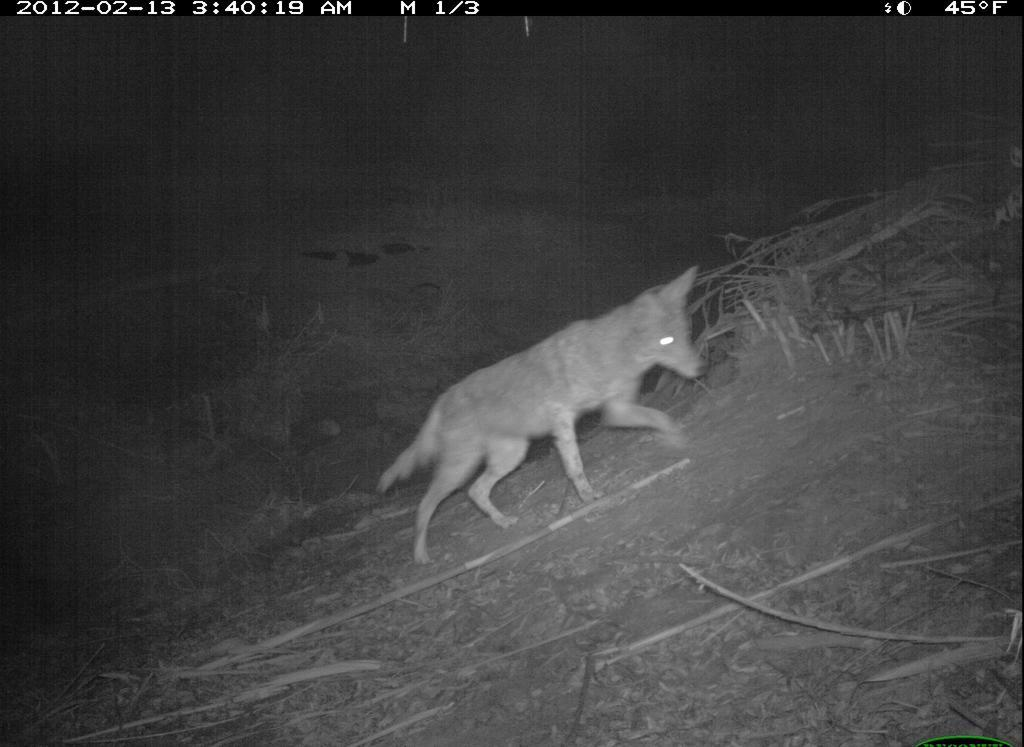coyote: (364, 255, 722, 583)
